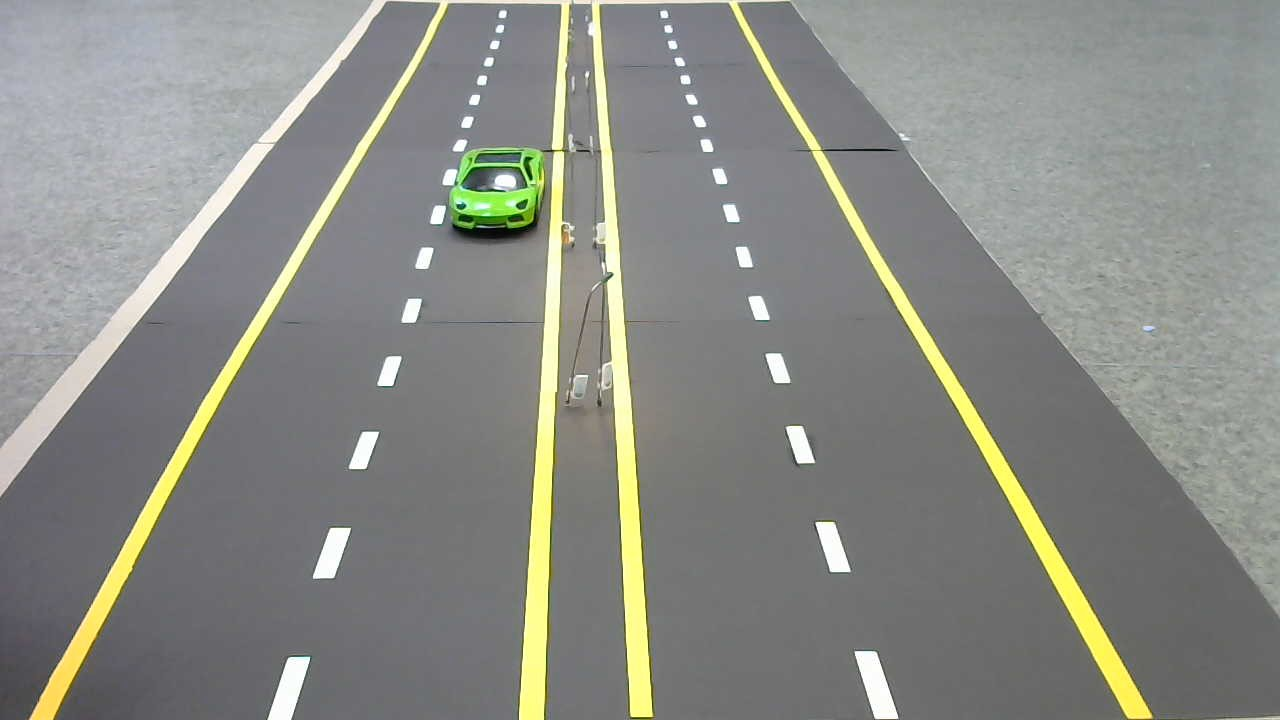front_car: (442, 144, 550, 242)
